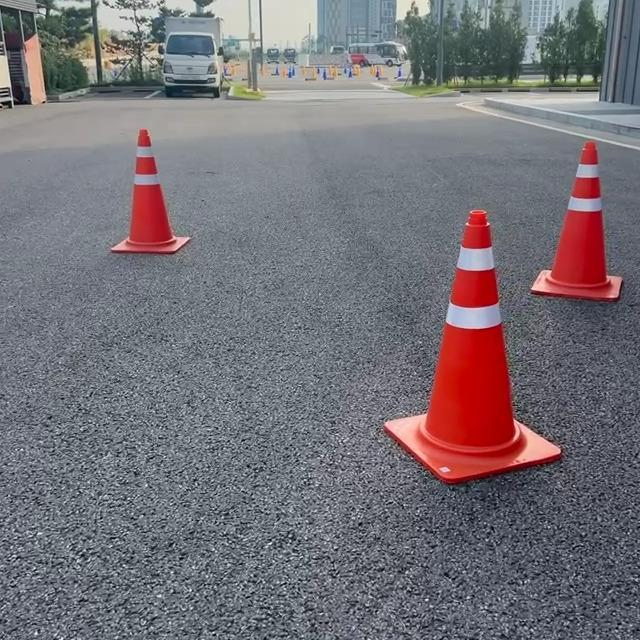fallen_object: (346, 165, 550, 499), (506, 125, 640, 371), (89, 116, 194, 285)
